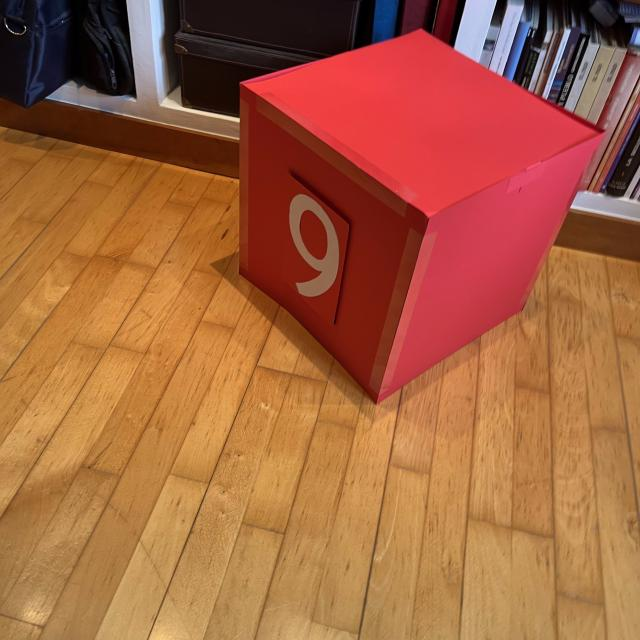box: (234, 27, 606, 404)
